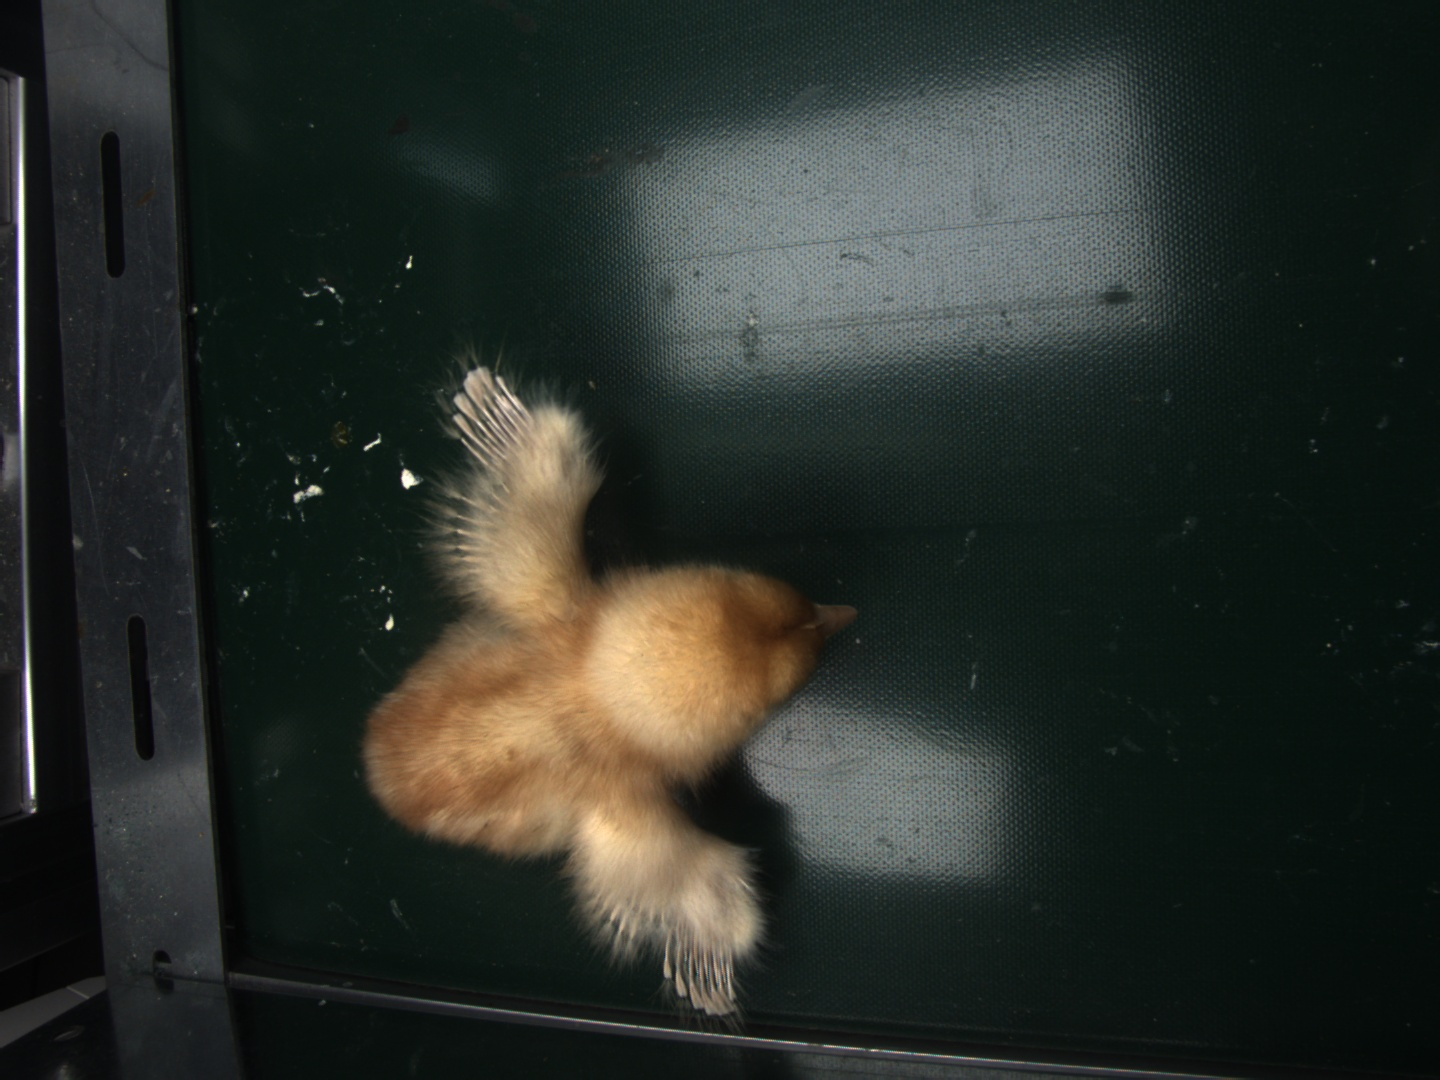female: (452, 366, 532, 469)
